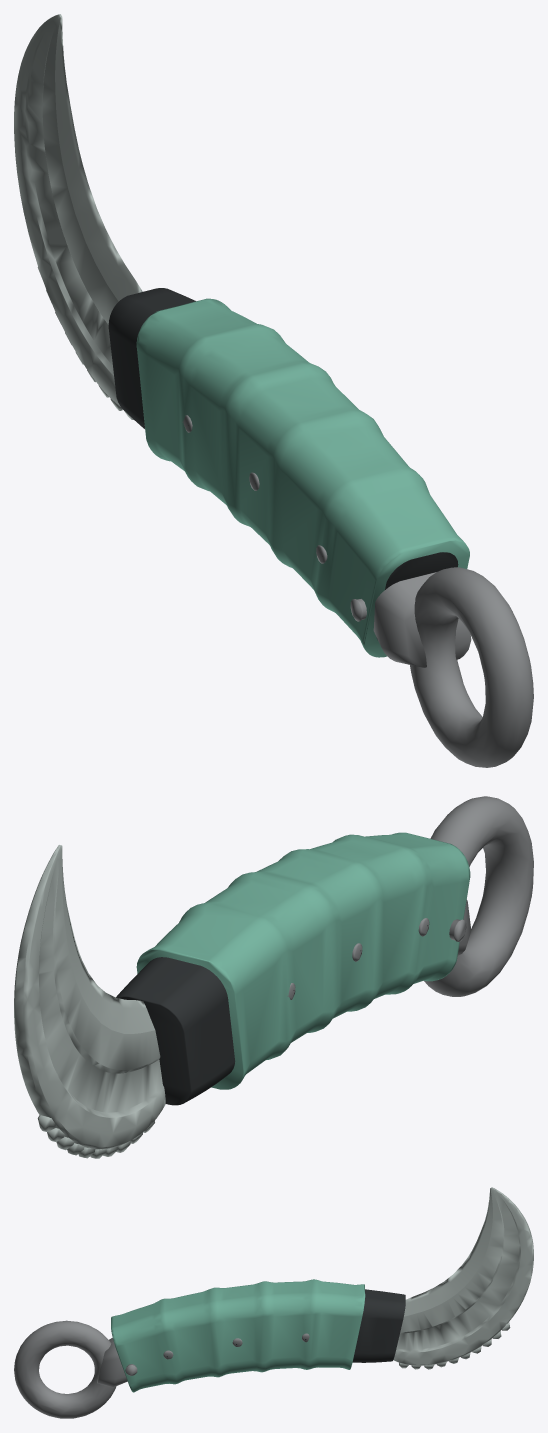
The model's file is karambit.glb.
3 views of the same model, one above another, from view 1: azimuth 30°, elevation 25°; view 2: azimuth 150°, elevation 25°; view 3: azimuth 270°, elevation 25° (orthographic). The views are drawn at different scales.
Visible parts, largest first — view 1: Grip, Blade, FingerRing, Handle, GripPin0_Batched; view 2: Grip, Blade, FingerRing, Handle, GripPin0_Batched; view 3: Grip, Blade, FingerRing, Handle, GripPin0_Batched.
Boxes of the visible parts, x1,y1,x2,y2 form: Grip: [136, 298, 469, 657]; Blade: [14, 14, 142, 406]; FingerRing: [410, 567, 533, 767]; Handle: [108, 288, 458, 639]; GripPin0_Batched: [182, 415, 471, 667]; Grip: [136, 832, 470, 1089]; Blade: [14, 845, 165, 1149]; FingerRing: [424, 796, 533, 996]; Handle: [116, 957, 235, 1105]; GripPin0_Batched: [287, 899, 471, 999]; Grip: [111, 1279, 365, 1392]; Blade: [393, 1187, 533, 1365]; FingerRing: [14, 1320, 116, 1418]; Handle: [352, 1289, 405, 1362]; GripPin0_Batched: [97, 1333, 309, 1387].
Bounding box in the file's own units: 0.0275 × 0.1102 × 0.2254.
